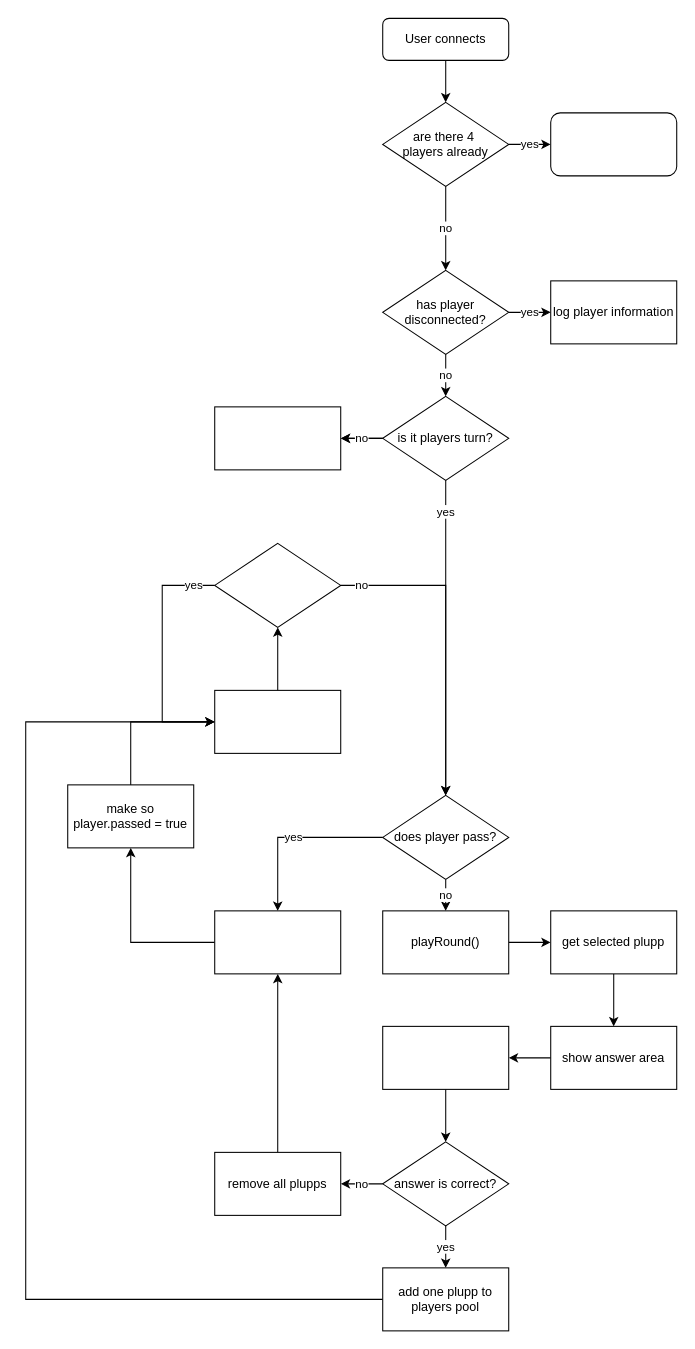
Image size: 695x1349. Some labels were removed from this diagram. Here are the shapes that lost their labels. From the top down, the centre of each, then its label:
At pixel 613 144: "DIsconnect".
At pixel 277 438: "Do nothing".
At pixel 277 584: "has the player passed?".
At pixel 277 721: "make it next players turn".
At pixel 277 942: "add players number of plupps to players points".
At pixel 445 1057: "evaluate answer".
